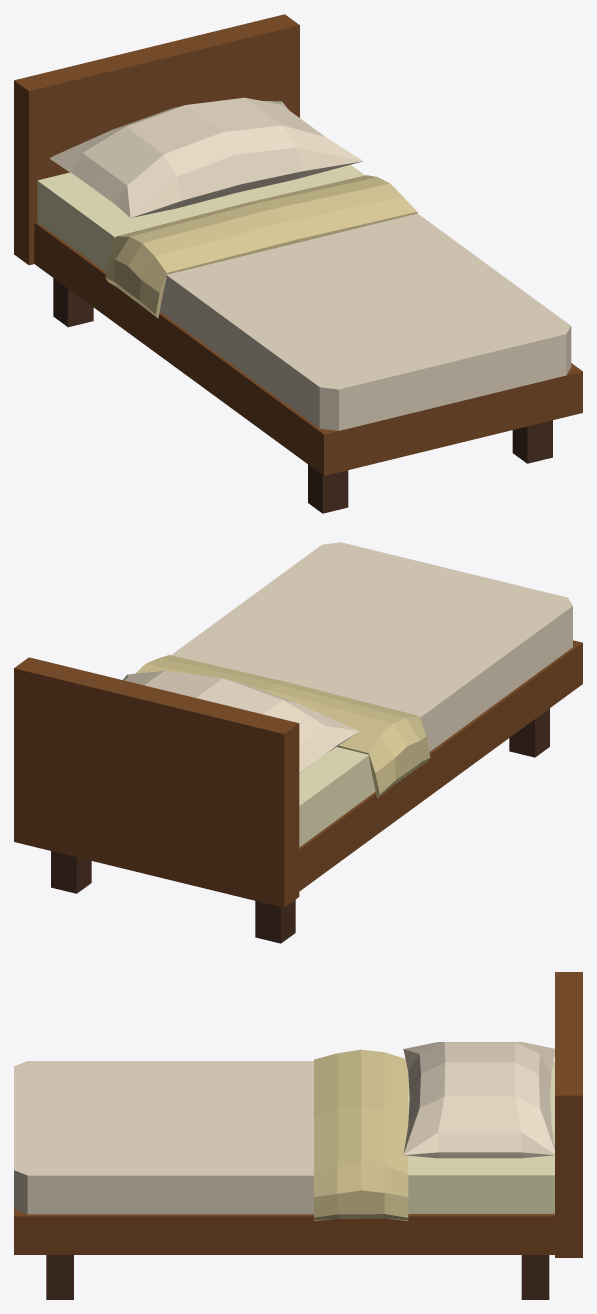
The model's file is Bed_2B.fbx.
3 views of the same model, one above another, from view 1: azimuth 30°, elevation 25°; view 2: azimuth 150°, elevation 25°; view 3: azimuth 270°, elevation 25° (orthographic). The views are drawn at different scales.
Visible parts, largest first — view 1: polySurface1820; view 2: polySurface1820; view 3: polySurface1820.
Boxes of the visible parts, bbox=[...] form: polySurface1820: bbox=[14, 14, 582, 513]; polySurface1820: bbox=[14, 542, 582, 943]; polySurface1820: bbox=[14, 972, 582, 1299].
Bounding box in the file's own units: 2.11 × 1.65 × 4.
Materials: 1 (1 with a texture image).
